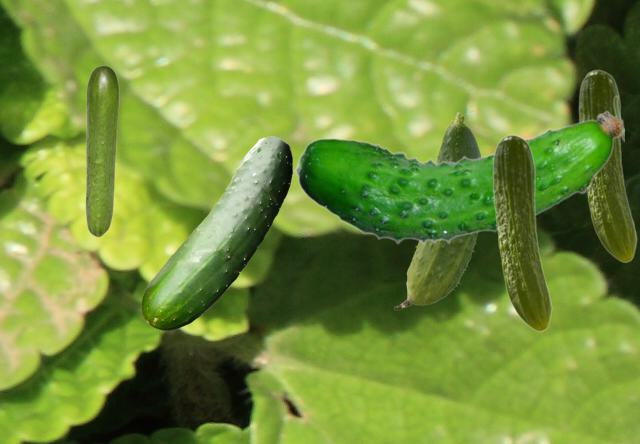cucumber: (293, 95, 623, 244), (141, 136, 291, 329), (394, 112, 481, 309), (492, 134, 551, 331), (578, 69, 636, 262), (85, 65, 118, 236)
